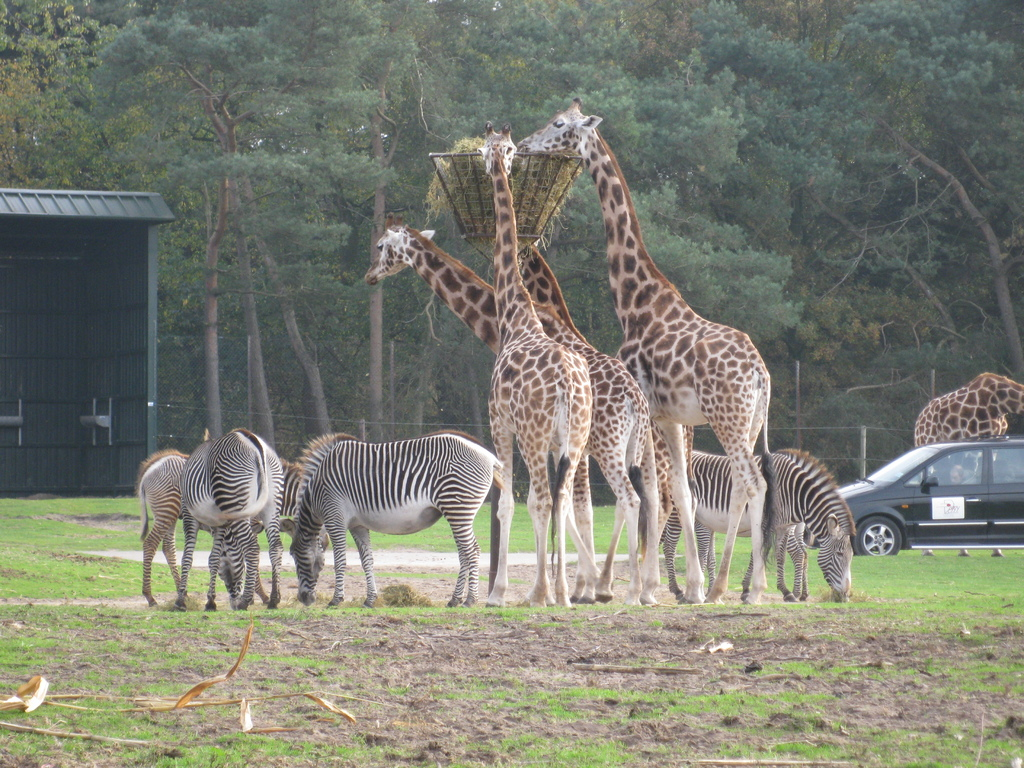Tree: (0, 0, 1024, 491)
